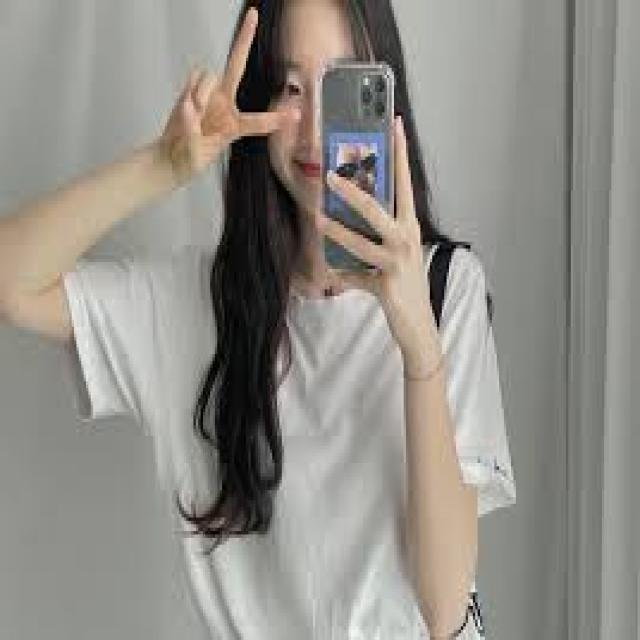Phone: (319, 65, 394, 271), (394, 260, 401, 264)
